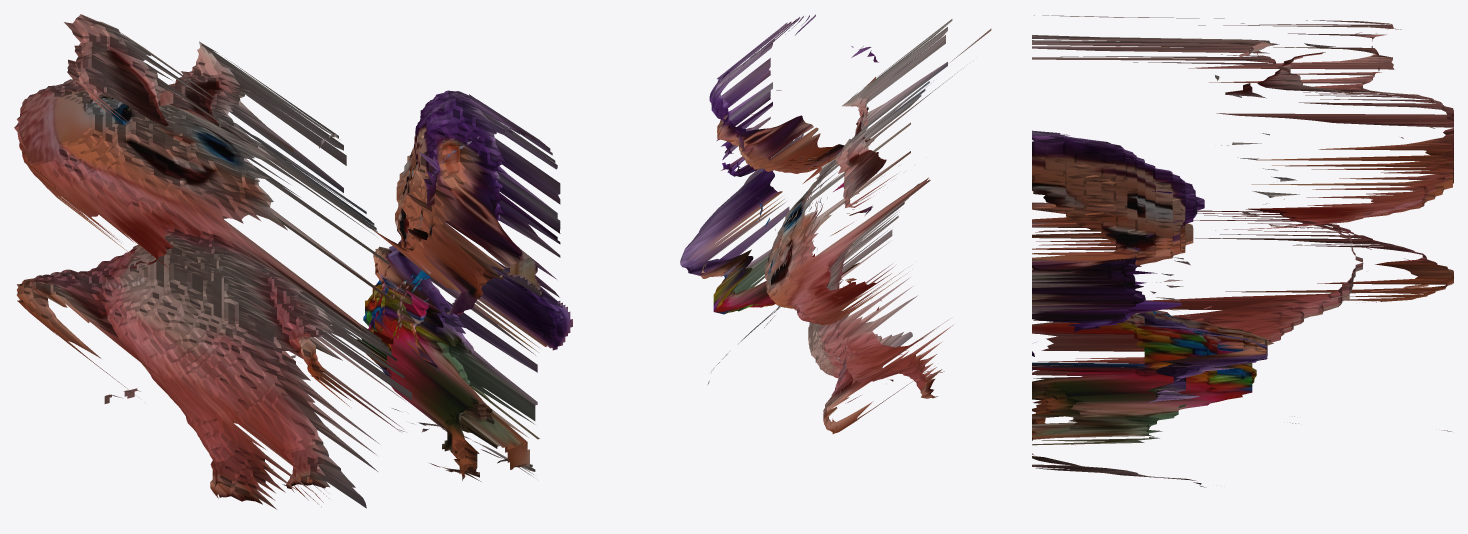
The model's file is frame_00079.glb.
3 views of the same model, side by side, from view 1: azimuth 30°, elevation 25°; view 2: azimuth 150°, elevation 25°; view 3: azimuth 270°, elevation 25° (orthographic). The views are drawn at different scales.
Parts seen in each view (by area): view 1: geometry_0; view 2: geometry_0; view 3: geometry_0.
Boxes of the visible parts, box(x1,y1,x2,y2) form: geometry_0: box(14, 14, 572, 509); geometry_0: box(680, 14, 991, 433); geometry_0: box(1032, 15, 1453, 487).
Bounding box in the file's own units: 0.1278 × 0.1666 × 0.16.
1 material, 1 textured.
